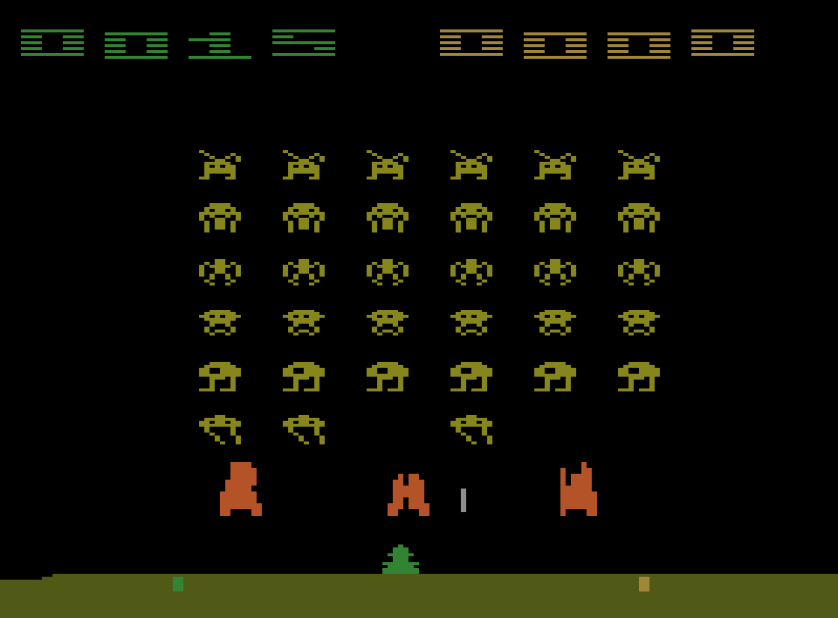bullet: (460, 487, 467, 514)
invader1: (533, 147, 577, 182), (198, 148, 243, 182), (366, 148, 410, 182), (449, 147, 493, 181), (282, 148, 327, 181), (617, 147, 661, 180)
invader2: (281, 201, 327, 235), (198, 201, 243, 235), (616, 200, 661, 234), (448, 201, 494, 234), (532, 201, 578, 234), (364, 202, 411, 234)
invader3: (281, 256, 327, 289), (197, 257, 243, 289), (365, 256, 411, 288), (616, 257, 661, 288), (532, 257, 578, 287), (449, 257, 493, 287)
invader4: (280, 307, 327, 338), (449, 307, 494, 338), (533, 307, 578, 338), (616, 307, 661, 338), (365, 308, 410, 338), (197, 308, 243, 337)
invader5: (532, 360, 578, 394), (616, 359, 661, 393), (197, 361, 243, 393), (449, 361, 494, 393), (281, 361, 325, 393), (366, 361, 410, 393)
invader6: (198, 412, 243, 447), (281, 413, 326, 446), (449, 413, 493, 446)
player: (381, 542, 421, 575)
